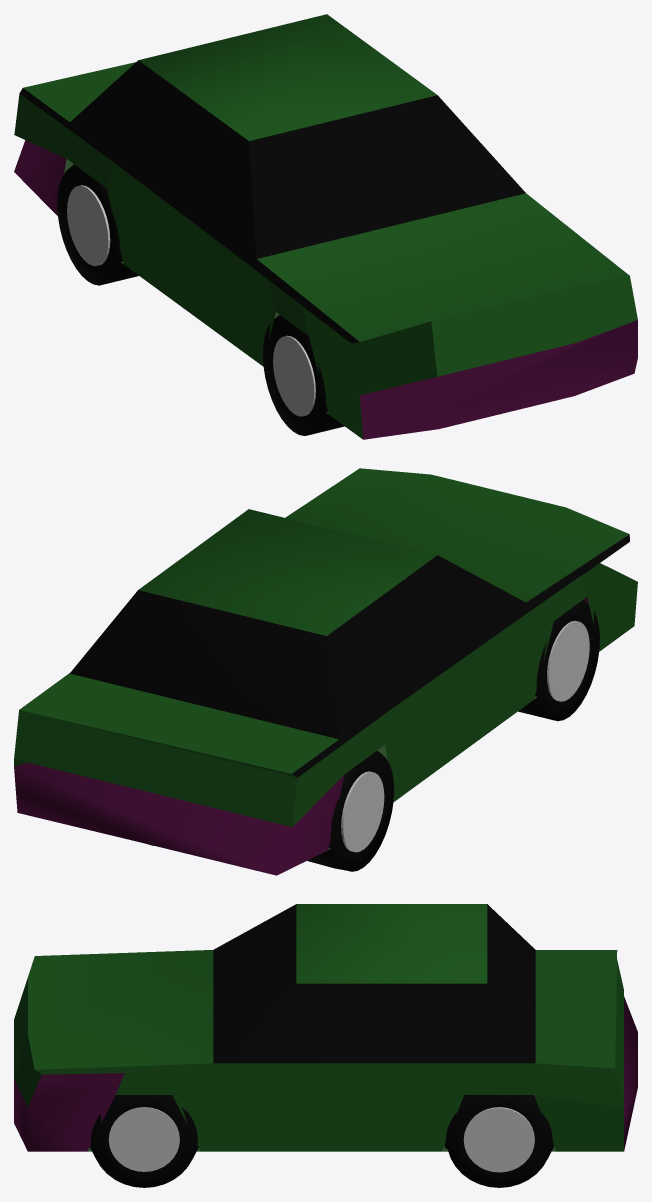
Rendered from Carlos.fbx.
3 views of the same model, one above another, from view 1: azimuth 30°, elevation 25°; view 2: azimuth 150°, elevation 25°; view 3: azimuth 270°, elevation 25° (orthographic). The views are drawn at different scales.
Visible parts, largest first — view 1: fig; view 2: fig; view 3: fig.
Boxes of the visible parts, x1=… form: fig: x1=14, y1=14, x2=637, y2=439; fig: x1=14, y1=468, x2=637, y2=875; fig: x1=14, y1=904, x2=637, y2=1187.
Size of the model in its own units: 200 by 150 by 450.
